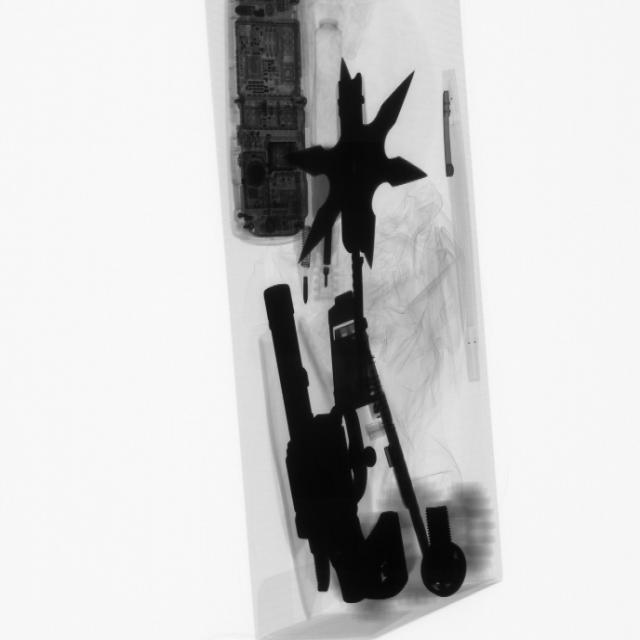GUN: (264, 279, 387, 614)
SHURIKEN: (289, 57, 429, 272)
